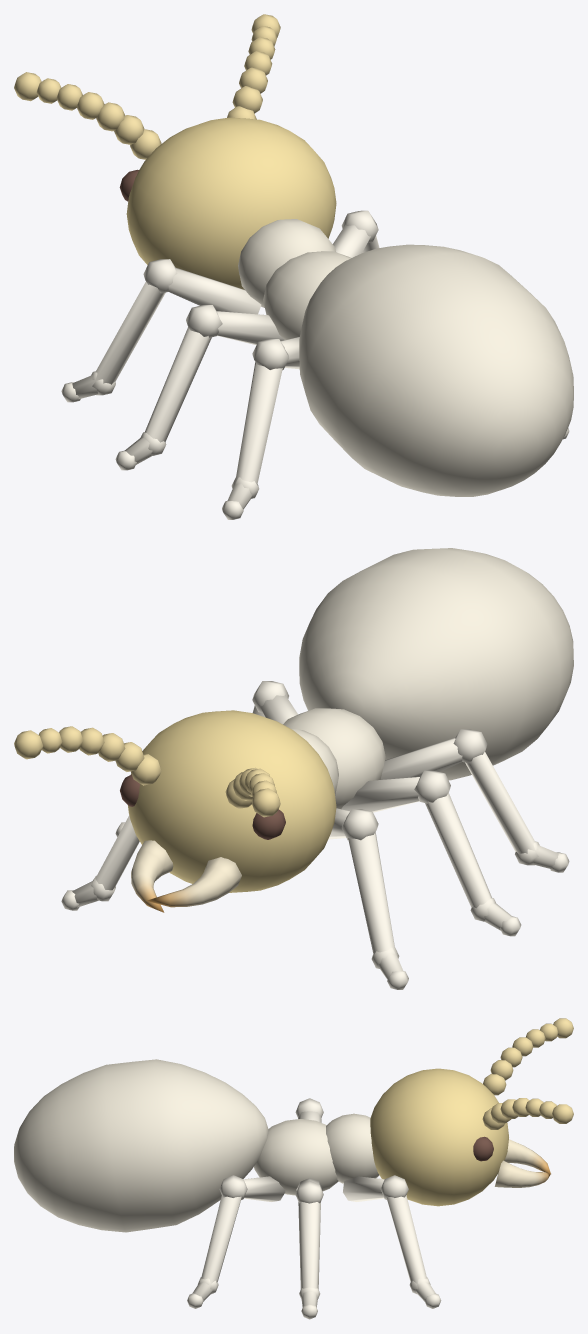
File: termite_worker.obj
3 views of the same model, one above another, from view 1: azimuth 30°, elevation 25°; view 2: azimuth 150°, elevation 25°; view 3: azimuth 270°, elevation 25° (orthographic). The views are drawn at different scales.
Visible parts, largest first — view 1: termite_worker; view 2: termite_worker; view 3: termite_worker.
Boxes of the visible parts, bbox=[...] form: termite_worker: bbox=[14, 14, 573, 519]; termite_worker: bbox=[14, 548, 573, 989]; termite_worker: bbox=[14, 1018, 573, 1319].
Bounding box in the file's own units: 0.6418 × 0.3837 × 1.04.
1 material, 1 textured.
